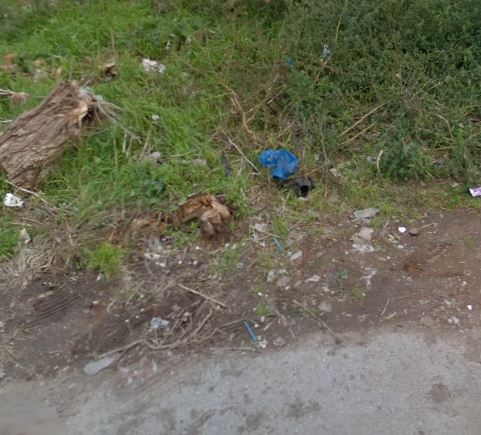trash: (246, 139, 307, 191), (130, 53, 180, 82), (1, 194, 27, 211)
